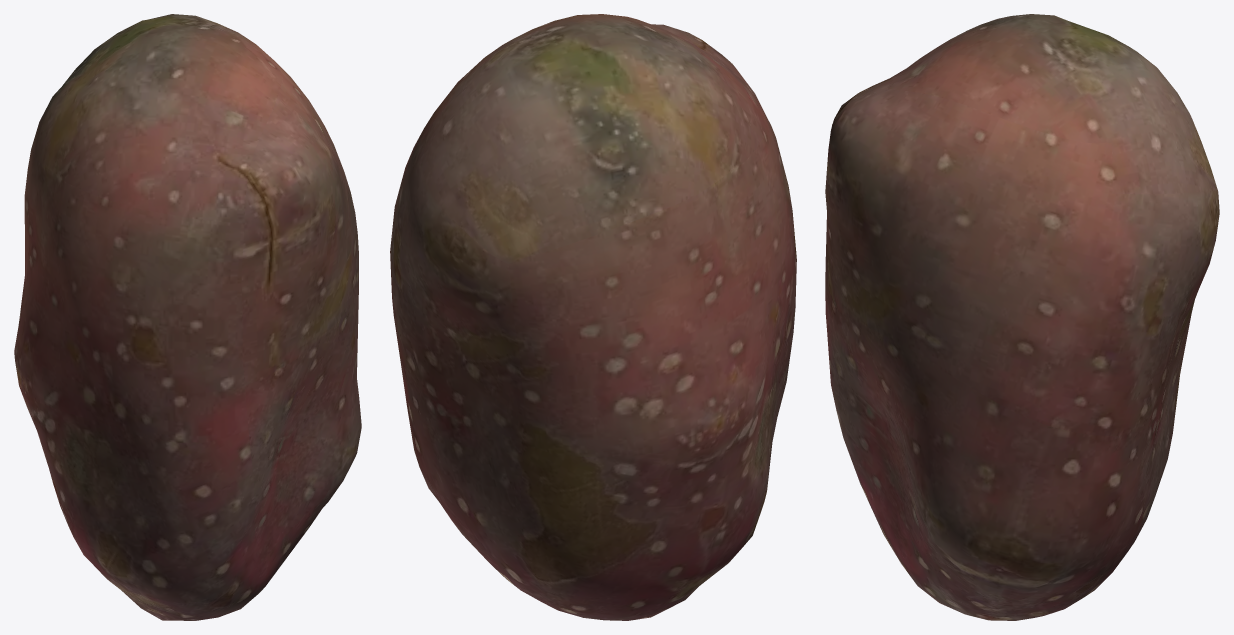
Rendered from sweet_potato.glb.
The picture shows the model from 3 angles, left to right: view 1: azimuth 30°, elevation 25°; view 2: azimuth 150°, elevation 25°; view 3: azimuth 270°, elevation 25°; orthographic projection. The views are drawn at different scales.
Visible parts, largest first — view 1: sweet_potato; view 2: sweet_potato; view 3: sweet_potato.
Boxes of the visible parts, box(x1,y1,x2,y2) form: sweet_potato: box(14, 14, 361, 620); sweet_potato: box(390, 14, 796, 620); sweet_potato: box(825, 14, 1219, 620).
Bounding box in the file's own units: 0.0581 × 0.1005 × 0.061.
Materials: 1 (1 with a texture image).
